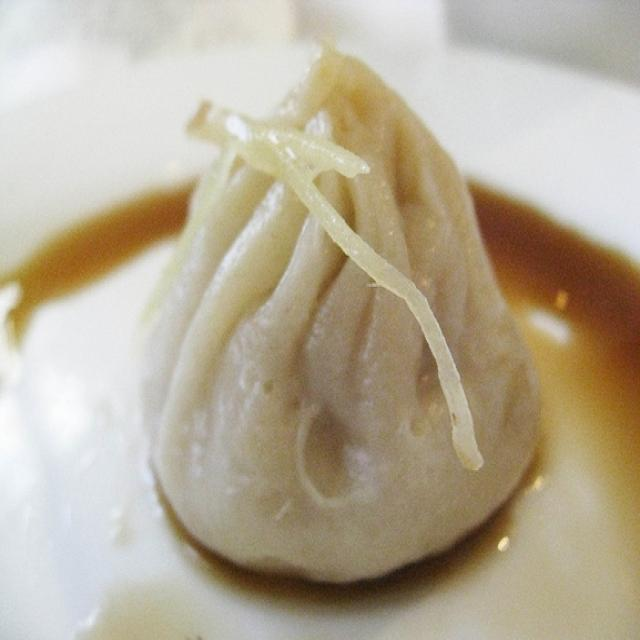带馅早点: (43, 24, 608, 594)
